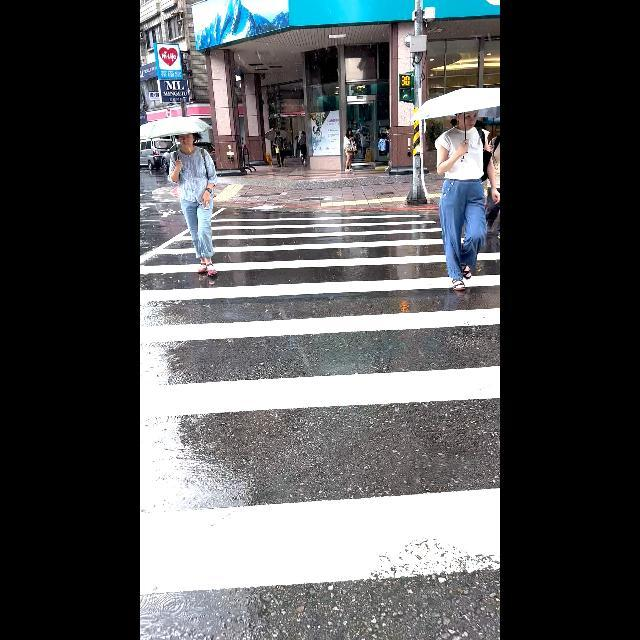sidewalk: (140, 205, 500, 595)
